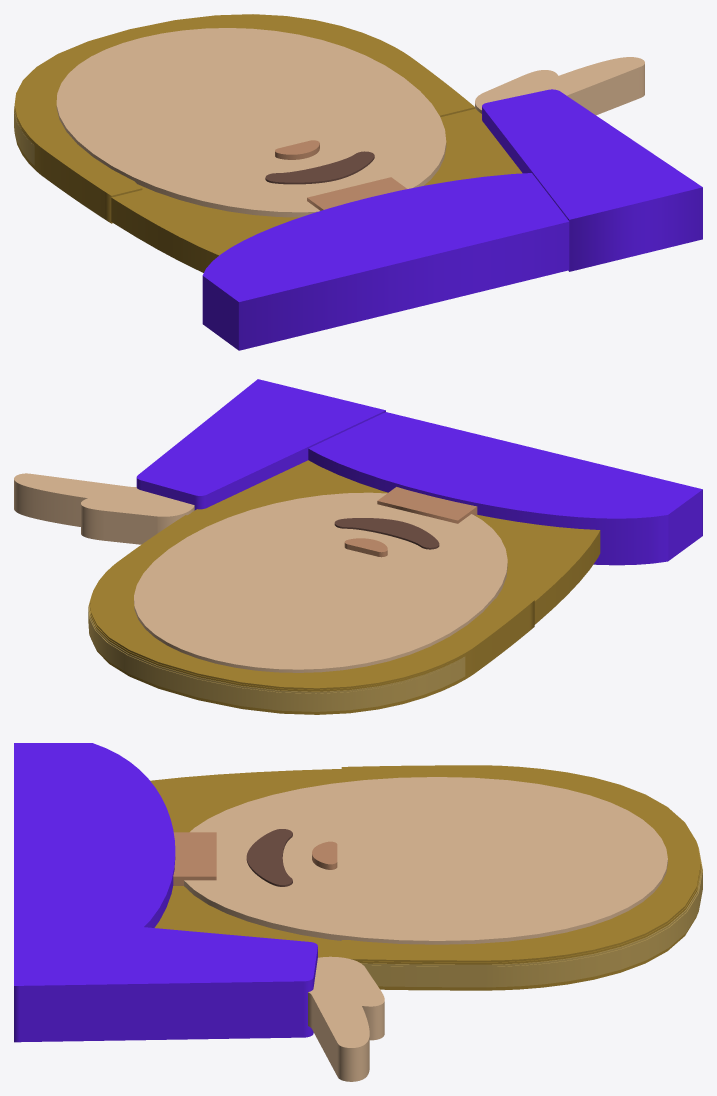
The model's file is emoji_u1f481_1f3fc_200d_2640.glb.
3 renders of one model, top to bottom at view 1: azimuth 30°, elevation 25°; view 2: azimuth 150°, elevation 25°; view 3: azimuth 270°, elevation 25°, orthographic. The views are drawn at different scales.
Parts seen in each view (by area): view 1: emoji_u1f481_1f3fc_200d_2640; view 2: emoji_u1f481_1f3fc_200d_2640; view 3: emoji_u1f481_1f3fc_200d_2640.
Part boxes in pixels (x1,y1,x2,y2): emoji_u1f481_1f3fc_200d_2640: [14, 14, 702, 350]; emoji_u1f481_1f3fc_200d_2640: [14, 379, 702, 714]; emoji_u1f481_1f3fc_200d_2640: [14, 743, 702, 1081].
Bounding box in the file's own units: 0.0338 × 0.003 × 0.0333.
